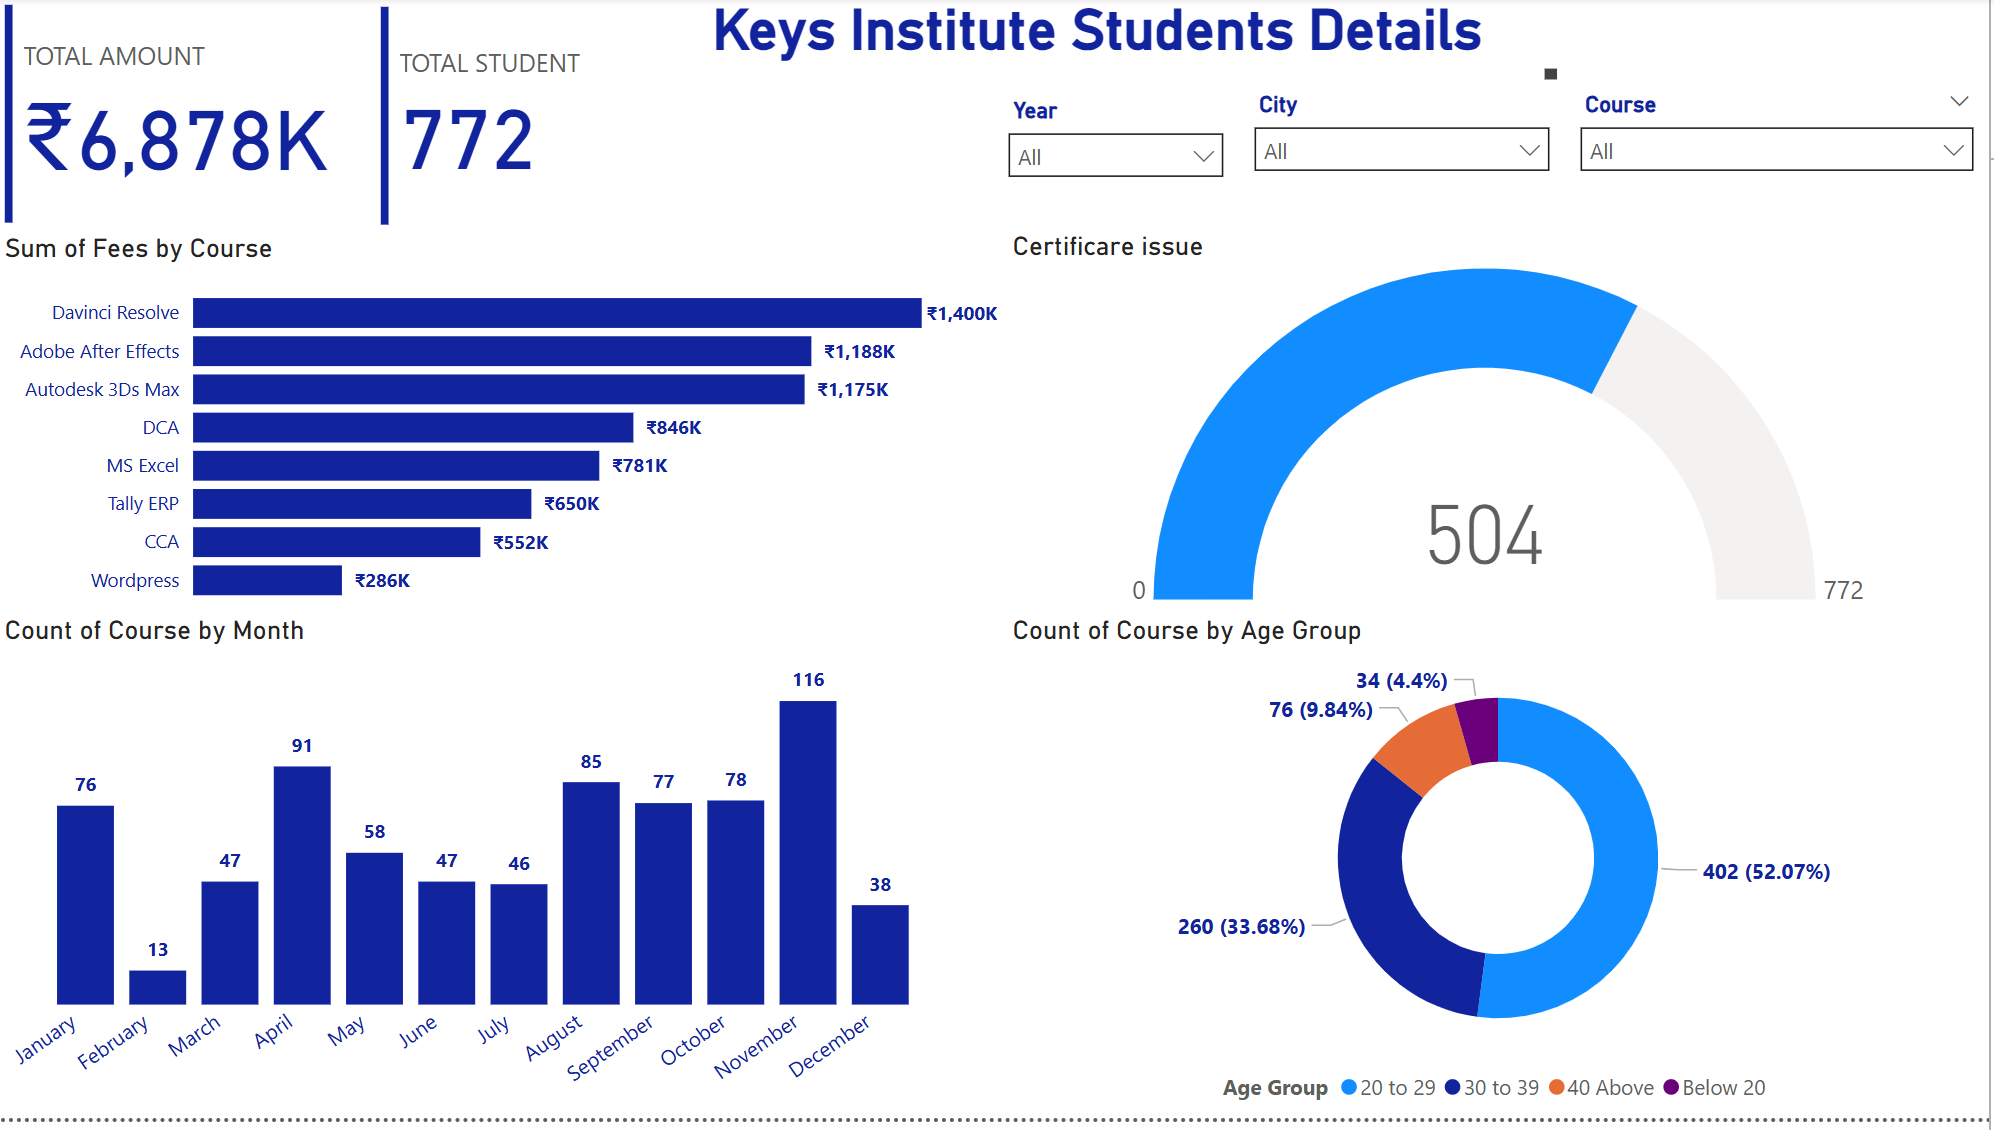

This screenshot's page, from the dashboard's own definition file:
{"tool":"powerbi","page":{"name":"Keys Institute","canvas":[1280,720],"ordinal":0},"visuals":[{"type":"clusteredColumnChart","fields":{"Category":["Student Course Details.Date of Join.Variation.Date Hierarchy.Year","Student Course Details.Date of Join.Variation.Date Hierarchy.Quarter","Student Course Details.Date of Join.Variation.Date Hierarchy.Month","Student Course Details.Date of Join.Variation.Date Hierarchy.Day"],"Y":["Student Course Details.Course"]},"box":[0,396.7,610,323.3],"z":0},{"type":"donutChart","fields":{"Y":["Student Course Details.Course"],"Category":["Student Course Details.Age Group"]},"box":[647.7,397.1,633.6,322.6],"z":1000},{"type":"clusteredBarChart","fields":{"Category":["Student Course Details.Course"],"Y":["Student Course Details.Fees"]},"box":[0,151.6,647.7,248],"z":2000},{"type":"cardVisual","title":"TOTAL AMONT","fields":{"Data":["Student Course Details.Fees"]},"box":[0,0,241.1,150],"z":3000},{"type":"cardVisual","fields":{"Data":["Student Course Details.Student Name"]},"box":[241.6,1.3,152.9,150.4],"z":4000},{"type":"gauge","fields":{"Y":["Personal Details.CountYes"]},"box":[647.7,150.4,633.6,246.7],"z":5000},{"type":"slicer","fields":{"Values":["Student Course Details.Date of Join.Variation.Date Hierarchy.Year"]},"box":[640,59.1,158.1,91.2],"z":6000},{"type":"slicer","fields":{"Values":["Personal Details.City"]},"box":[798.1,55.3,209.5,91.2],"z":7000},{"type":"slicer","fields":{"Values":["Student Course Details.Course"]},"box":[1007.6,55.3,272.4,91.2],"z":8000},{"type":"textbox","title":"Keys Institute Students Details","box":[454.9,0,552.6,57.8],"z":9000}]}

Visuals, with their boxes in screenshot pixels (x1, y1, x2, y2), scaled from the page's 1280x720 canvas onto the 1994x1130 screenshot:
clusteredColumnChart - Student Course Details.Date of Join.Variation.Date Hierarchy.Year x Student Course Details.Date of Join.Variation.Date Hierarchy.Quarter: 0 623 950 1129
donutChart - Student Course Details.Course x Student Course Details.Age Group: 1009 623 1993 1129
clusteredBarChart - Student Course Details.Course x Student Course Details.Fees: 0 238 1009 627
"TOTAL AMONT" cardVisual: 0 0 376 235
cardVisual - Student Course Details.Student Name: 376 2 615 238
gauge - Personal Details.CountYes: 1009 236 1993 623
slicer - Student Course Details.Date of Join.Variation.Date Hierarchy.Year: 997 93 1243 236
slicer - Personal Details.City: 1243 87 1570 230
slicer - Student Course Details.Course: 1570 87 1993 230
"Keys Institute Students Details" textbox: 709 0 1569 91
